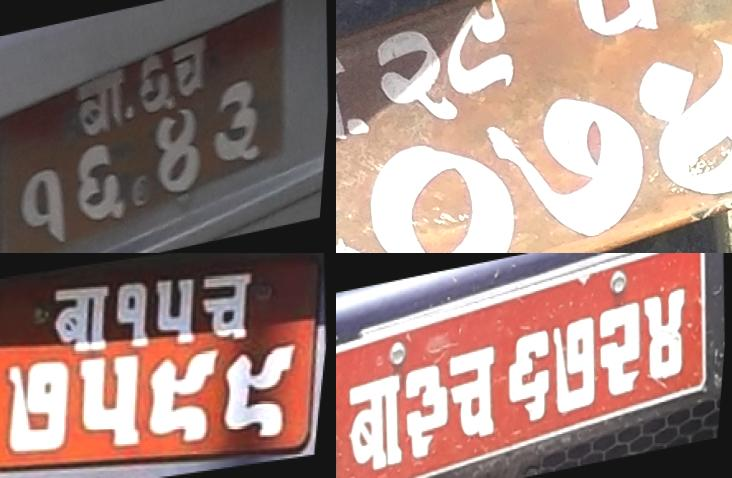0: (360, 124, 540, 253)
1: (16, 160, 76, 253), (108, 278, 157, 349)
2: (358, 19, 475, 137), (592, 293, 650, 406)
3: (399, 359, 458, 466), (208, 74, 271, 171)
4: (627, 26, 732, 206), (636, 281, 702, 394), (148, 103, 211, 205), (148, 272, 206, 346)
5: (68, 348, 154, 450)
6: (336, 165, 442, 253), (496, 321, 560, 437), (72, 137, 135, 235), (134, 46, 181, 119)
7: (476, 78, 673, 252), (0, 353, 77, 458), (546, 309, 606, 424)
9: (439, 0, 536, 101), (217, 342, 307, 444), (140, 346, 231, 444)
ba: (336, 368, 415, 478), (46, 280, 119, 355), (70, 68, 134, 145), (336, 49, 369, 171)
cha: (442, 338, 509, 452), (195, 268, 259, 343), (170, 30, 217, 110)
pa: (541, 0, 684, 55)
